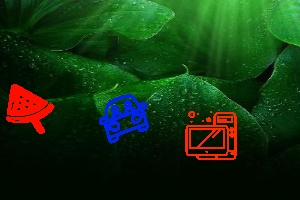三角蘑菇: (5, 83, 56, 135)
主机: (183, 108, 239, 165)
汽车: (98, 95, 152, 139)
